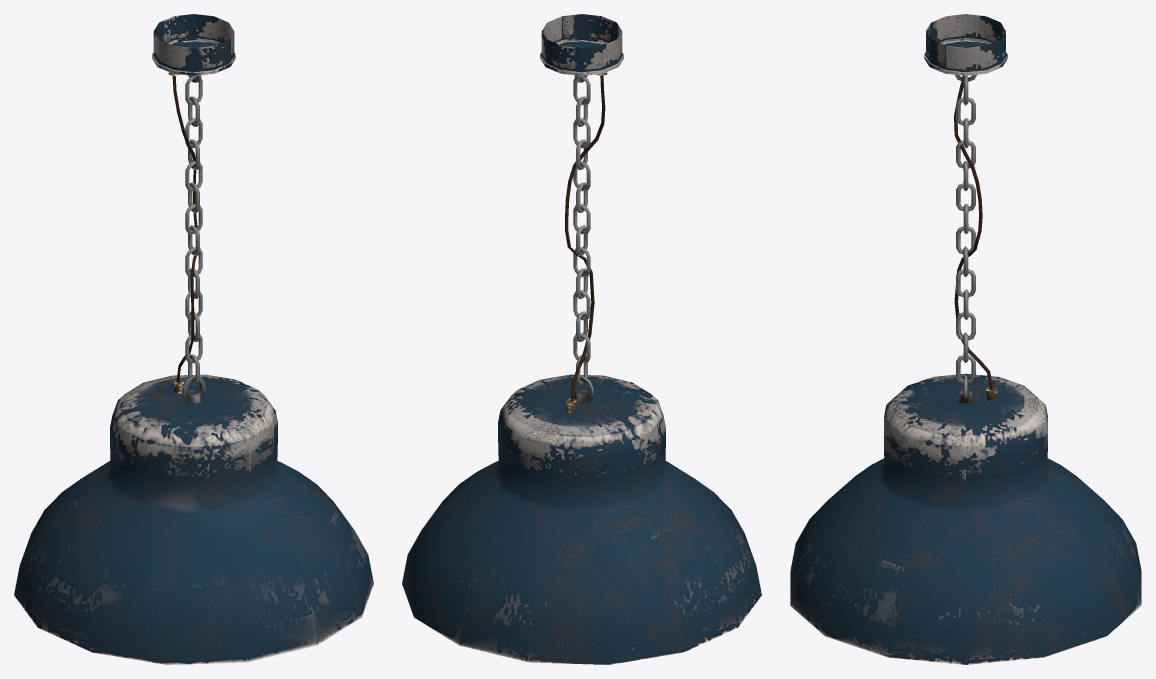
3 views of the same model, side by side, from view 1: azimuth 30°, elevation 25°; view 2: azimuth 150°, elevation 25°; view 3: azimuth 270°, elevation 25° (orthographic).
Parts seen in each view (by area): view 1: BezierCurve, RoofMount, Chain, Cord; view 2: BezierCurve, RoofMount, Chain, Cord; view 3: BezierCurve, RoofMount, Chain, Cord.
Part boxes in pixels (<box>): BezierCurve: <box>14,374,373,664</box>; RoofMount: <box>152,14,235,75</box>; Chain: <box>185,76,202,384</box>; Cord: <box>172,76,197,382</box>; BezierCurve: <box>402,374,761,664</box>; RoofMount: <box>540,14,623,75</box>; Chain: <box>573,76,590,384</box>; Cord: <box>565,75,605,401</box>; BezierCurve: <box>790,373,1141,664</box>; RoofMount: <box>924,14,1007,75</box>; Chain: <box>956,76,975,383</box>; Cord: <box>954,75,993,389</box>.
Bounding box in the file's own units: 200 × 342 × 195.
1 material, 1 textured.
